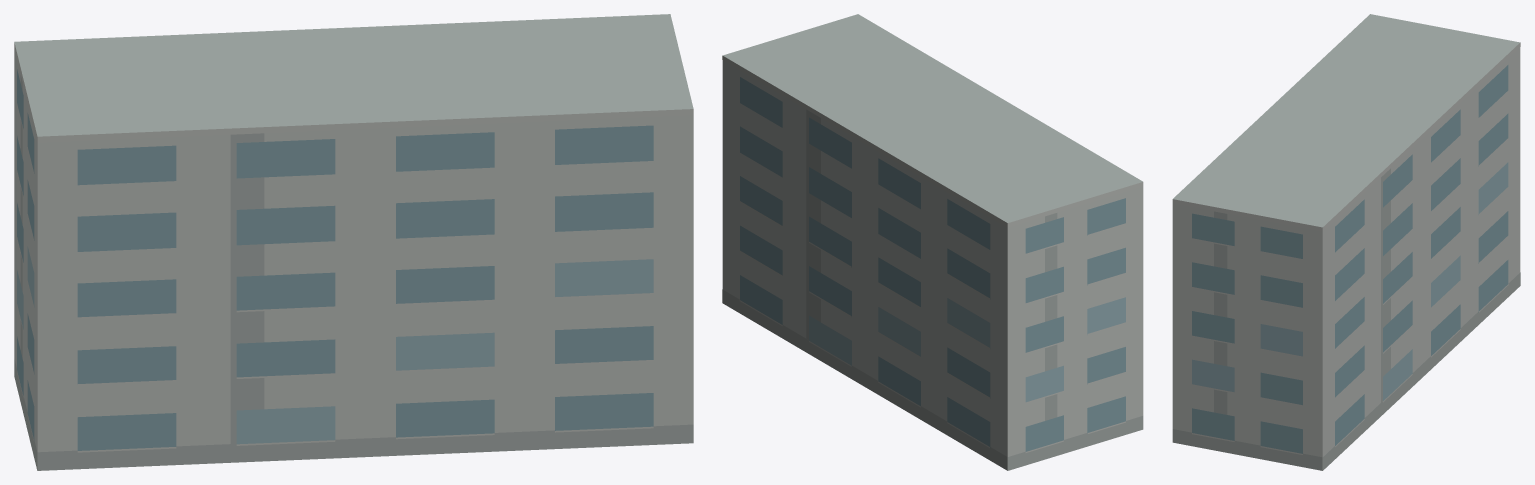
File: survey-upis-32743227.glb
The picture shows the model from 3 angles, left to right: view 1: azimuth 30°, elevation 25°; view 2: azimuth 150°, elevation 25°; view 3: azimuth 270°, elevation 25°; orthographic projection. The views are drawn at different scales.
Visible parts, largest first — view 1: survey-upis-32743227.tmp; view 2: survey-upis-32743227.tmp; view 3: survey-upis-32743227.tmp.
Boxes of the visible parts, <box> form: survey-upis-32743227.tmp: <box>14,14,693,470</box>; survey-upis-32743227.tmp: <box>722,14,1143,470</box>; survey-upis-32743227.tmp: <box>1172,14,1520,470</box>.
Size of the model in its own units: 24.64 by 13.1 by 16.97.
